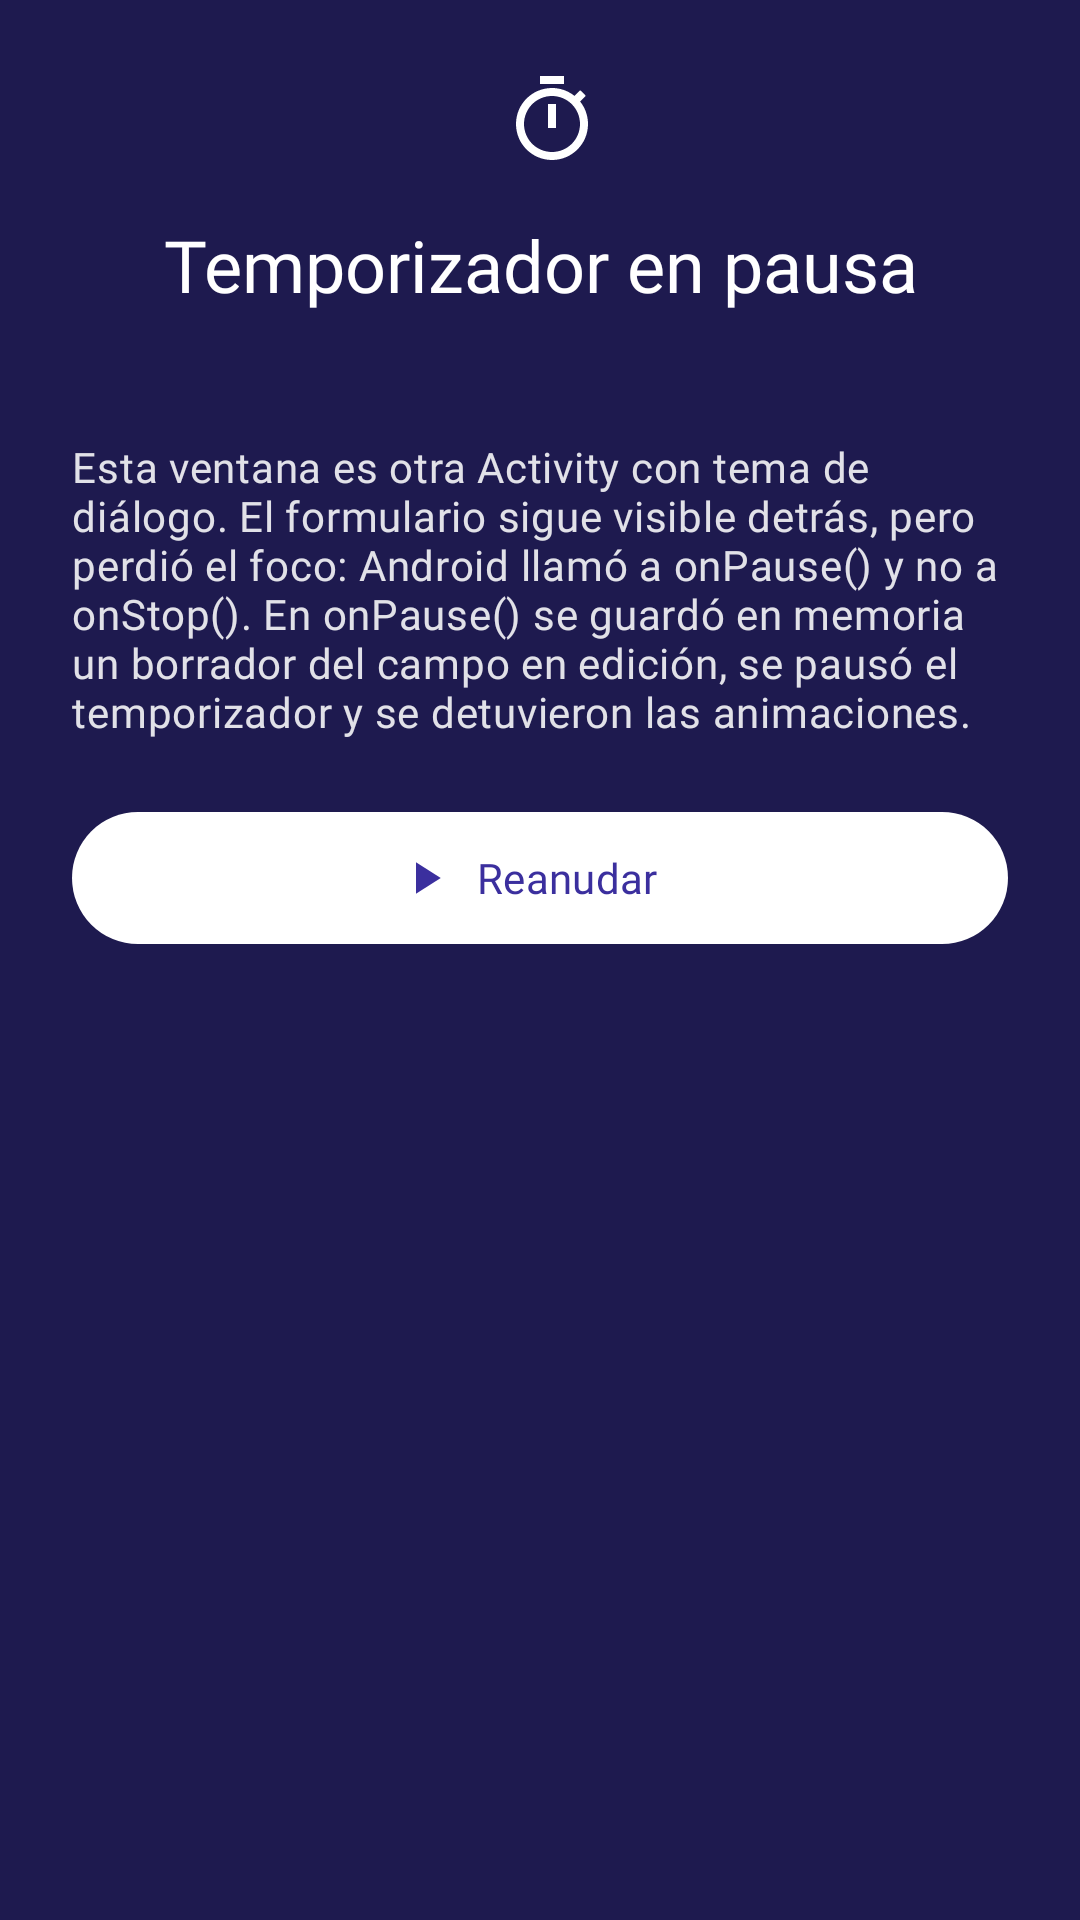

Locate icon controls on the screen. Image size 1080 × 1920, boxes as bbox=[x1, y1, x2, y2].
timer: bbox=[516, 76, 588, 160]
